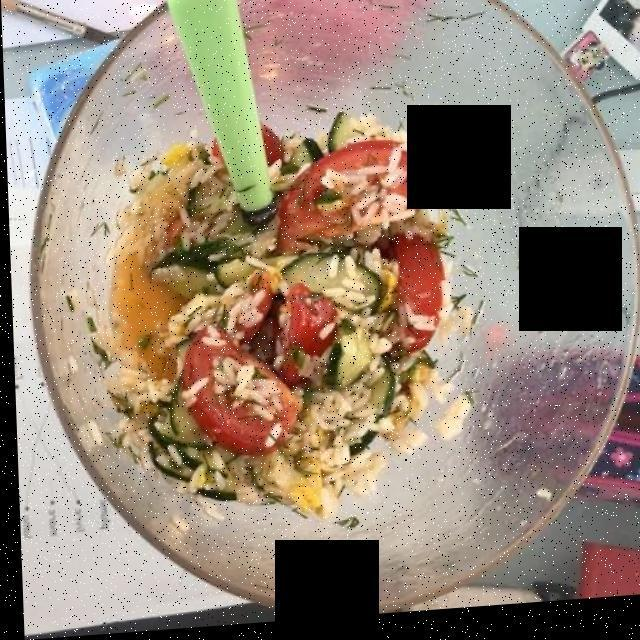rice: (67, 141, 469, 501)
tomato: (169, 148, 439, 448)
